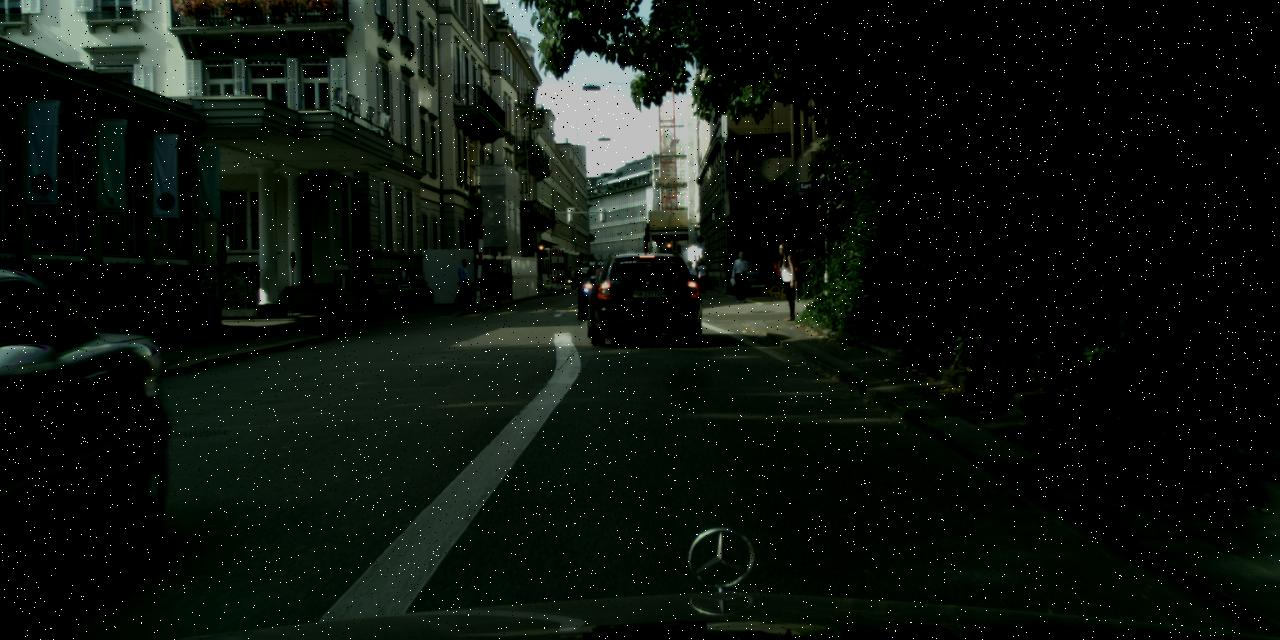ped: (770, 242, 801, 319), (730, 250, 751, 301), (454, 258, 474, 309), (488, 266, 504, 306), (682, 260, 695, 294), (696, 260, 709, 291)
